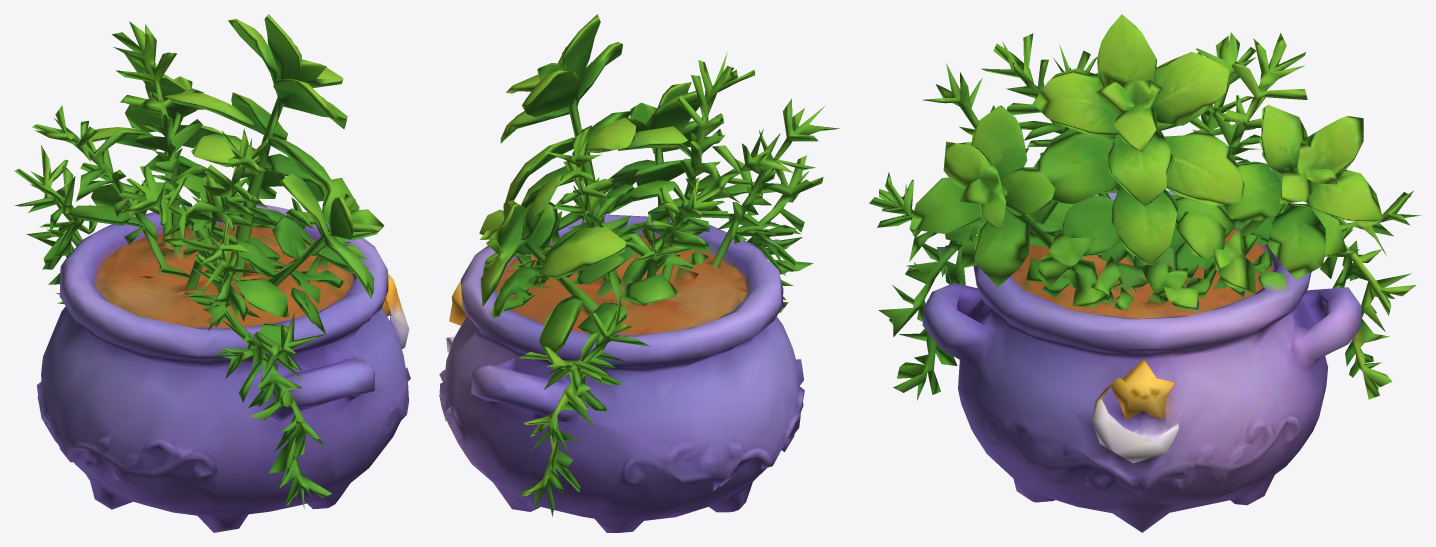
Rendered from herb_plant.glb.
3 renders of one model, left to right at view 1: azimuth 30°, elevation 25°; view 2: azimuth 150°, elevation 25°; view 3: azimuth 270°, elevation 25°, orthographic. The views are drawn at different scales.
Visible parts, largest first — view 1: tripo_node_c58c3099-5da5-4dc2-861b-b0efdf618f4a; view 2: tripo_node_c58c3099-5da5-4dc2-861b-b0efdf618f4a; view 3: tripo_node_c58c3099-5da5-4dc2-861b-b0efdf618f4a.
Boxes of the visible parts, bbox=[...] form: tripo_node_c58c3099-5da5-4dc2-861b-b0efdf618f4a: bbox=[14, 14, 410, 532]; tripo_node_c58c3099-5da5-4dc2-861b-b0efdf618f4a: bbox=[439, 14, 839, 532]; tripo_node_c58c3099-5da5-4dc2-861b-b0efdf618f4a: bbox=[869, 14, 1421, 532].
Size of the model in its own units: 0.1842 by 0.25 by 0.2606.
1 material, 1 textured.
